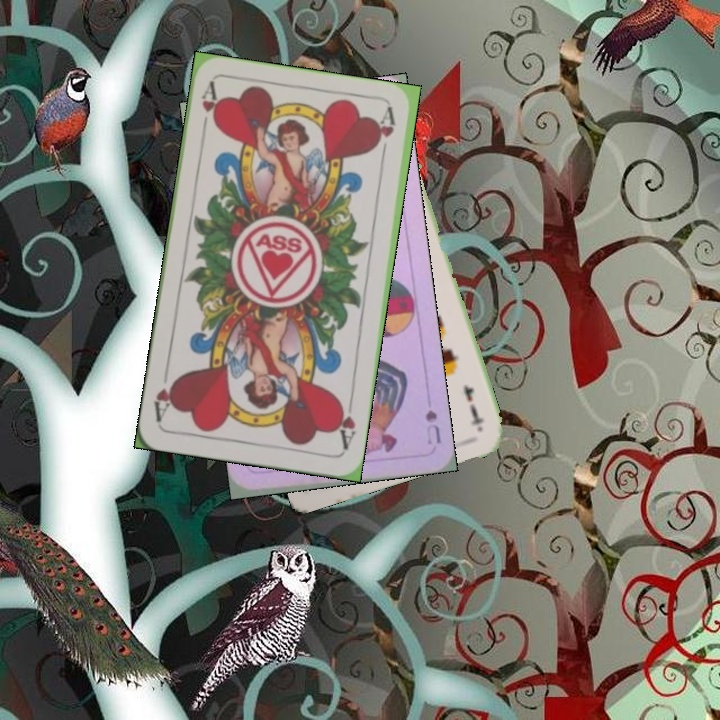E7: (459, 380, 487, 431)
HA: (332, 394, 358, 452), (197, 79, 222, 138)
SU: (421, 405, 444, 447)
